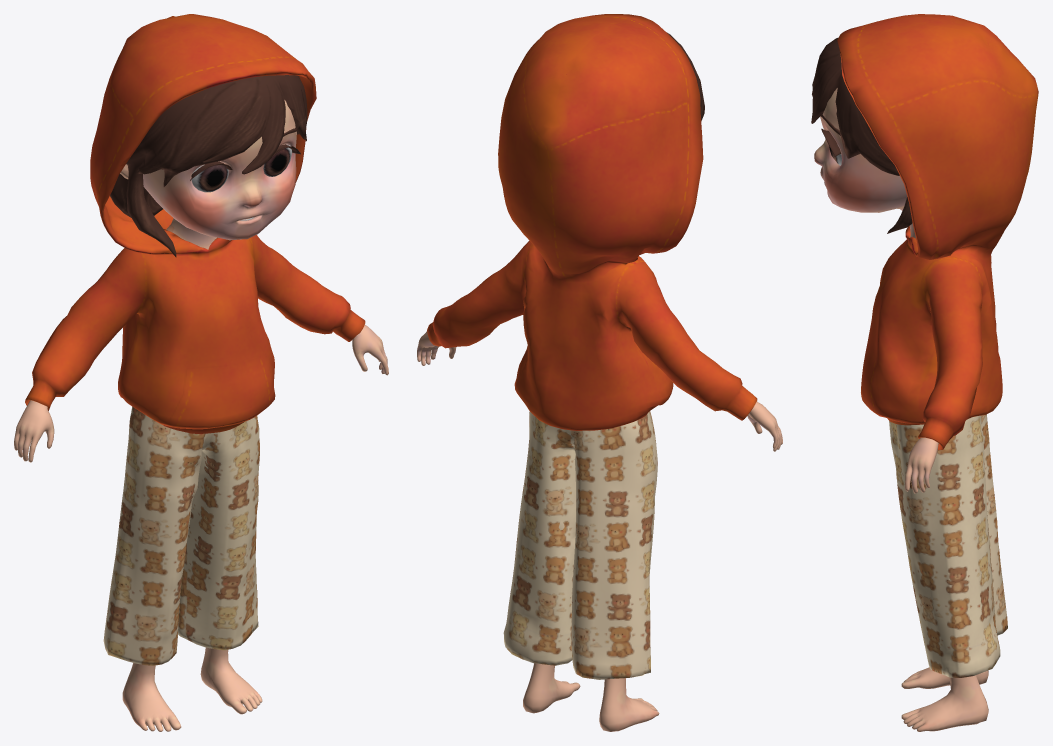
The model's file is Player_Test.fbx.
3 views of the same model, side by side, from view 1: azimuth 30°, elevation 25°; view 2: azimuth 150°, elevation 25°; view 3: azimuth 270°, elevation 25° (orthographic). The views are drawn at different scales.
Visible parts, largest first — view 1: clothes_top, clothes_bottom, body, hair, eye_R; view 2: clothes_top, clothes_bottom, body; view 3: clothes_top, clothes_bottom, body, hair.
Part boxes in pixels (x1,y1,x2,y2): clothes_top: (25, 14, 365, 433); clothes_bottom: (103, 406, 259, 665); body: (14, 100, 388, 731); hair: (110, 75, 307, 257); eye_R: (191, 165, 228, 192); clothes_top: (427, 14, 757, 430); clothes_bottom: (503, 411, 657, 679); body: (417, 331, 782, 731); clothes_top: (837, 14, 1038, 450); clothes_bottom: (889, 414, 1007, 677); body: (814, 88, 988, 731); hair: (811, 37, 912, 233).
Bounding box in the file's own units: 62.77 × 112 × 33.84.
